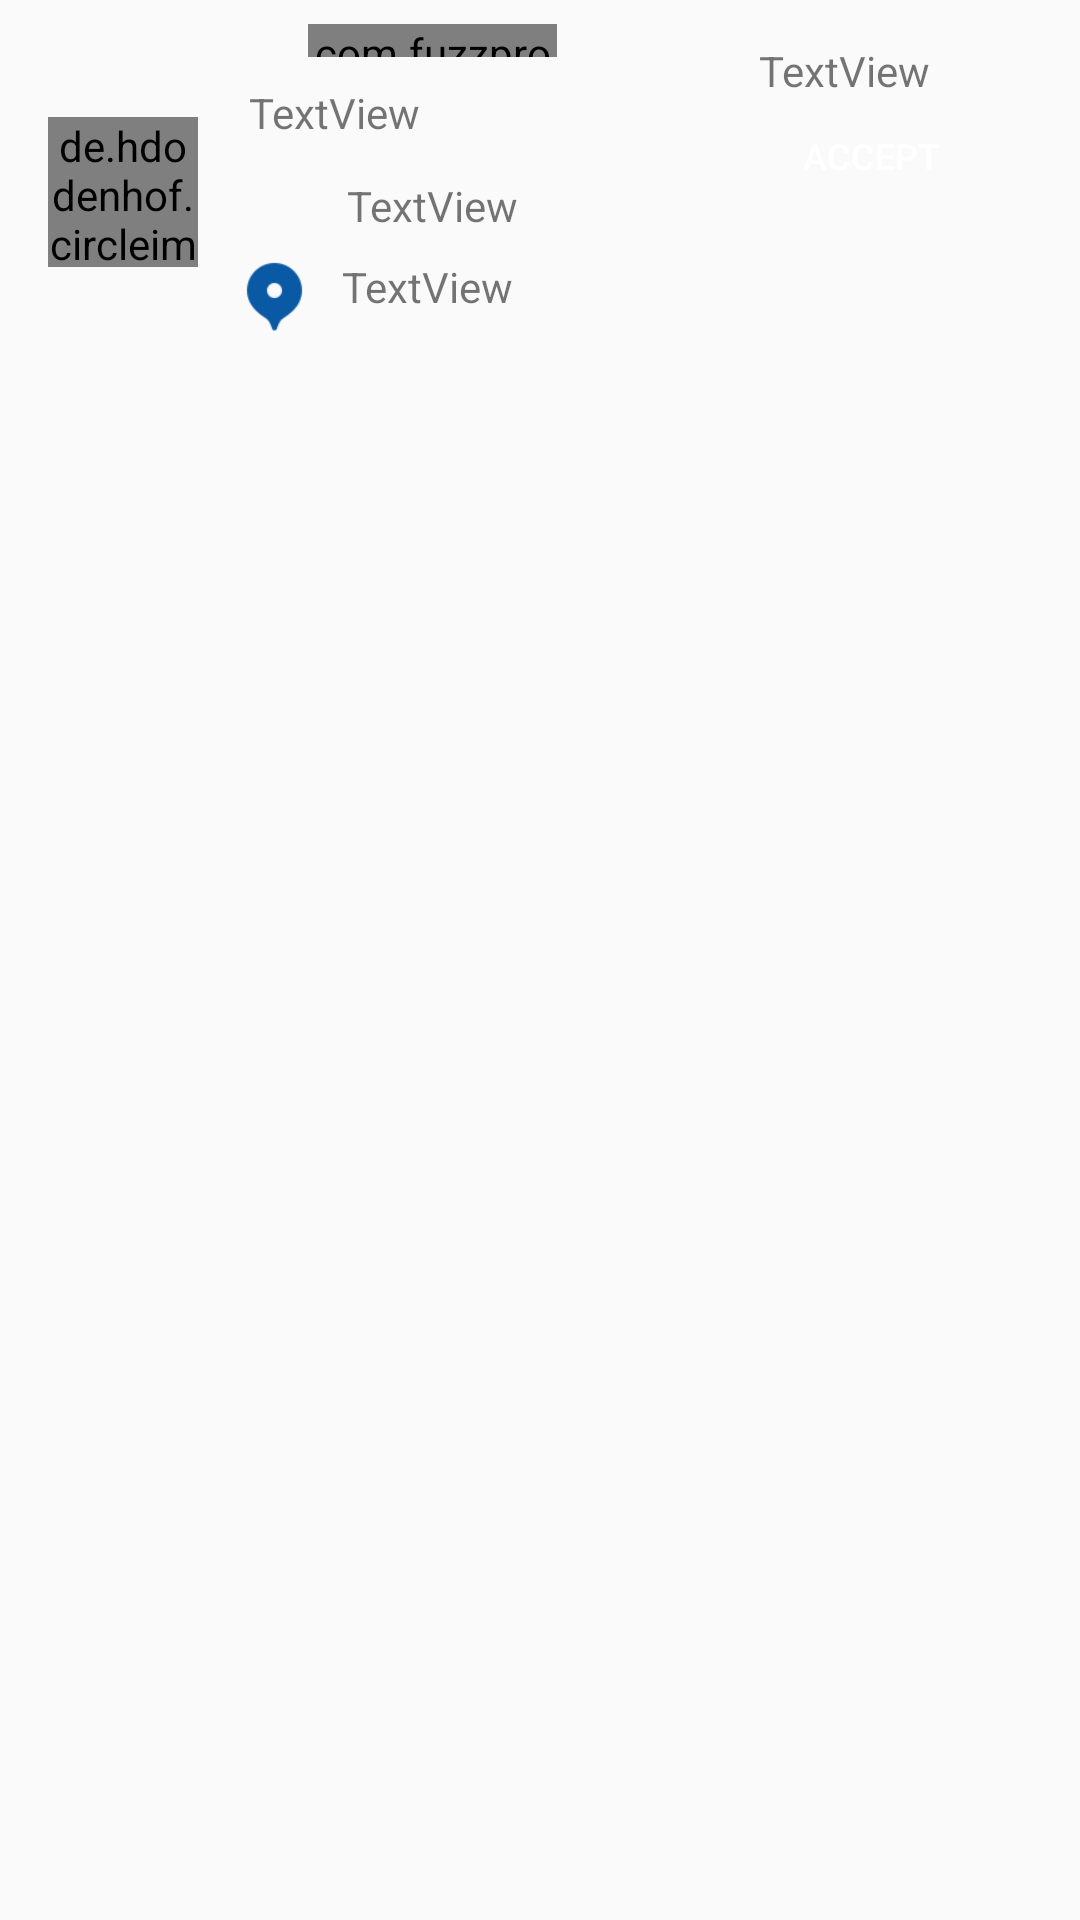

Icons on this 1080x1920 Android screen, each with its box as (x1, y1, x2, y2):
marker bid: (247, 263, 302, 331)
